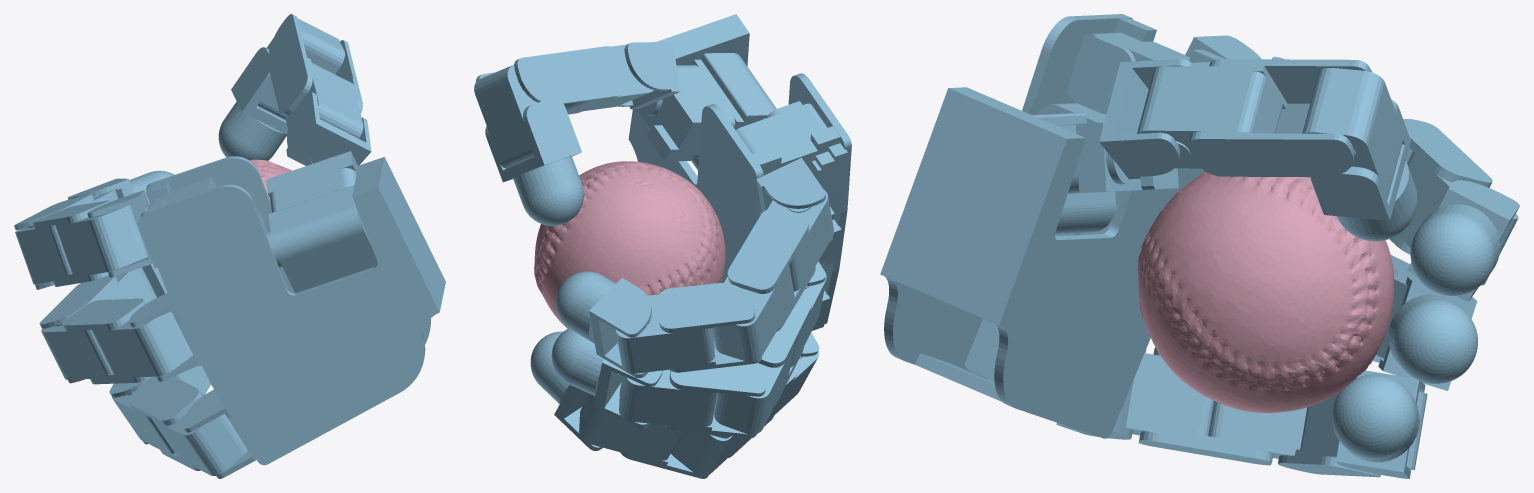
3 views of the same model, side by side, from view 1: azimuth 30°, elevation 25°; view 2: azimuth 150°, elevation 25°; view 3: azimuth 270°, elevation 25° (orthographic). The views are drawn at different scales.
Parts seen in each view (by area): view 1: world; view 2: world; view 3: world.
Boxes of the visible parts, <box> form: world: <box>14,14,445,478</box>; world: <box>474,14,851,478</box>; world: <box>880,14,1519,478</box>.
Bounding box in the file's own units: 0.1366 × 0.1641 × 0.1813.
